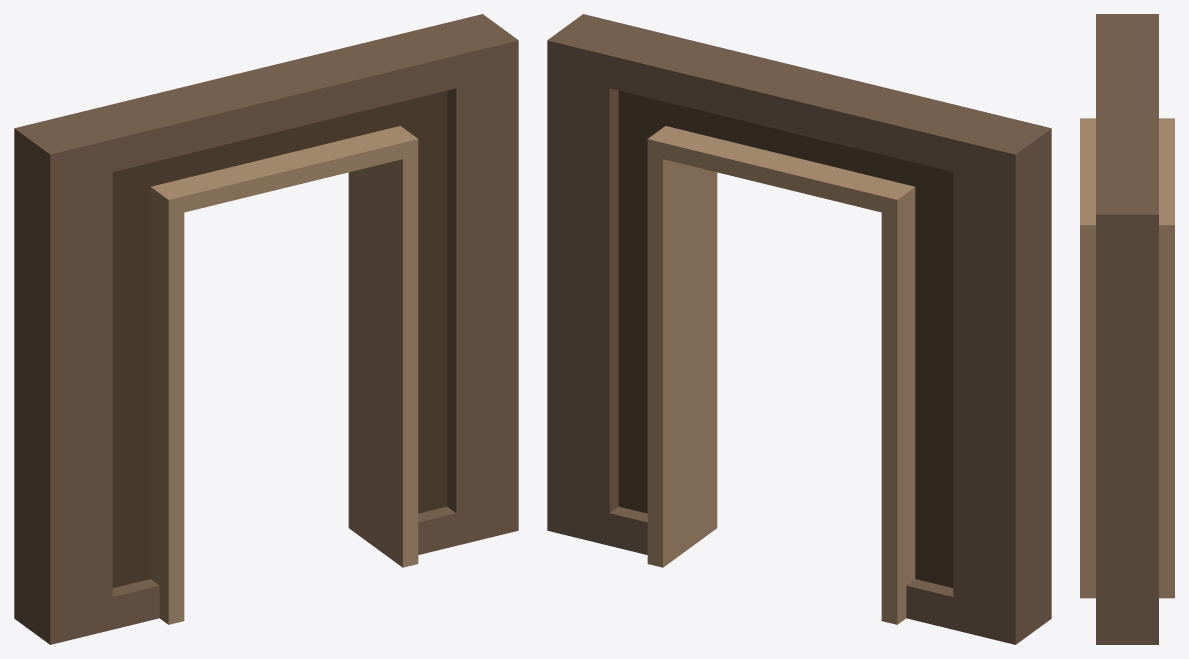
File: enchantedforest_wall_wood_door_3.fbx
3 views of the same model, side by side, from view 1: azimuth 30°, elevation 25°; view 2: azimuth 150°, elevation 25°; view 3: azimuth 270°, elevation 25° (orthographic). The views are drawn at different scales.
Visible parts, largest first — view 1: Cube.025; view 2: Cube.025; view 3: Cube.025.
Part boxes in pixels (bbox=[...]): Cube.025: bbox=[14, 14, 518, 644]; Cube.025: bbox=[547, 14, 1051, 644]; Cube.025: bbox=[1080, 14, 1174, 644].
Bounding box in the file's own units: 3 × 3 × 0.6.
